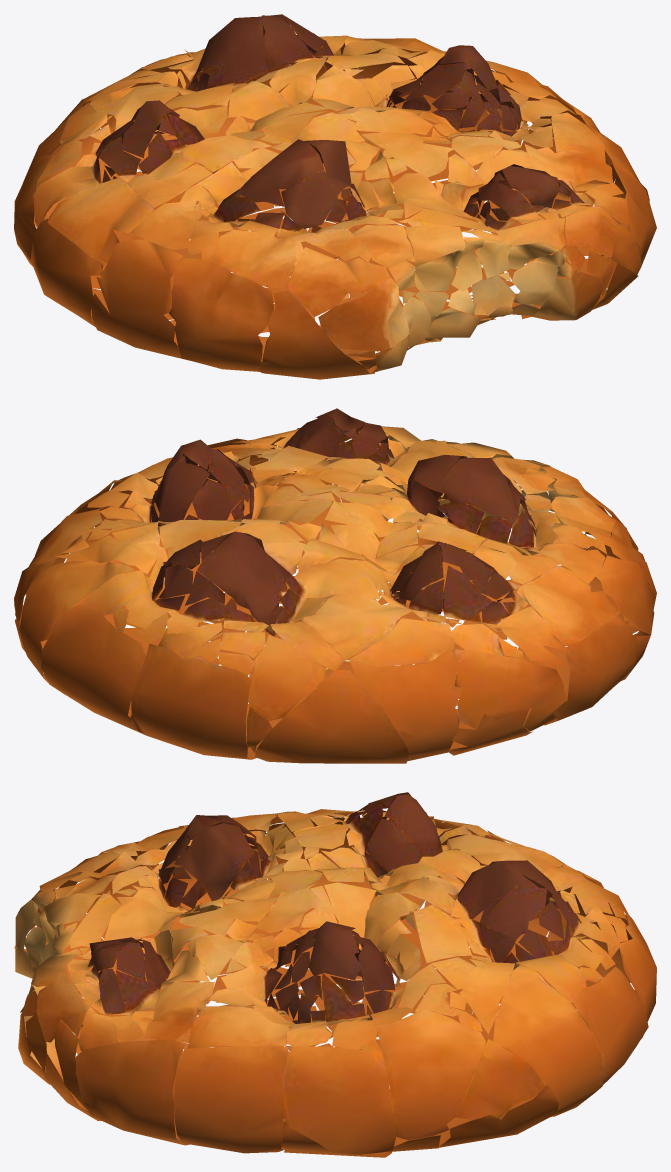
File: cookie.glb
3 renders of one model, top to bottom at view 1: azimuth 30°, elevation 25°; view 2: azimuth 150°, elevation 25°; view 3: azimuth 270°, elevation 25°, orthographic. The views are drawn at different scales.
Visible parts, largest first — view 1: cookie; view 2: cookie; view 3: cookie.
Part boxes in pixels (x1,y1,x2,y2): cookie: [14, 14, 656, 379]; cookie: [14, 408, 656, 763]; cookie: [14, 792, 656, 1157].
Size of the model in its own units: 0.06 by 0.0194 by 0.0584.
1 material, 1 textured.
